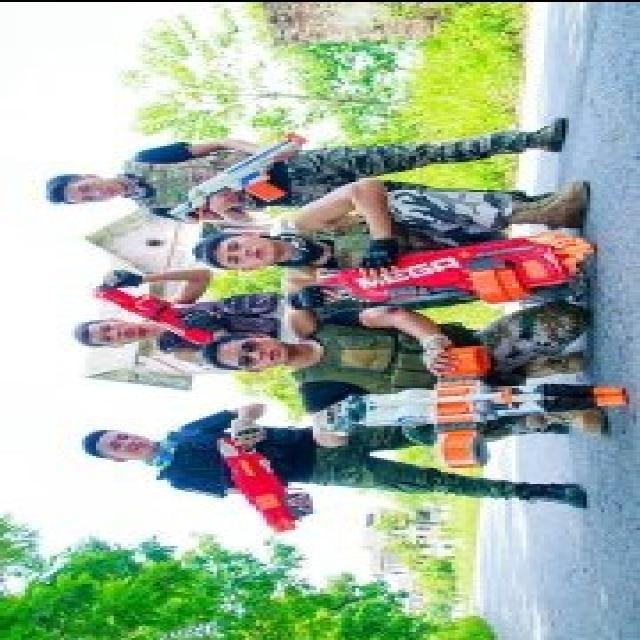Nerf gun: (313, 337, 640, 471), (300, 229, 602, 311), (156, 127, 313, 225), (197, 424, 315, 540), (75, 273, 238, 351)
